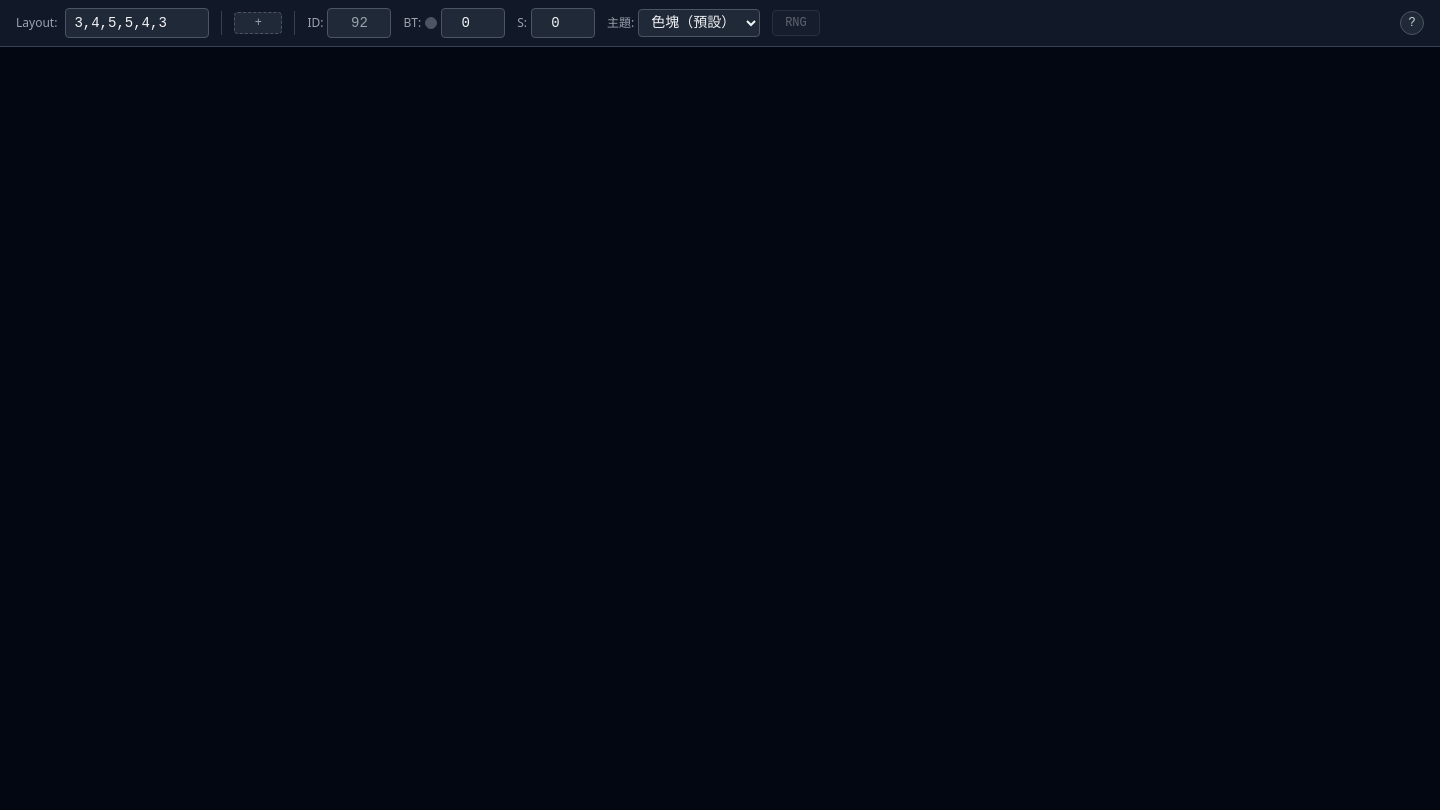
Test: Toolbar Help 按鈕 › 點擊 ? 按鈕開啟操作說明彈窗，再點 X 可關閉
Expected: the text "操作說明" is not shown
Click the button named "說明": (1412, 23) left=1400, top=11, right=1424, bottom=35
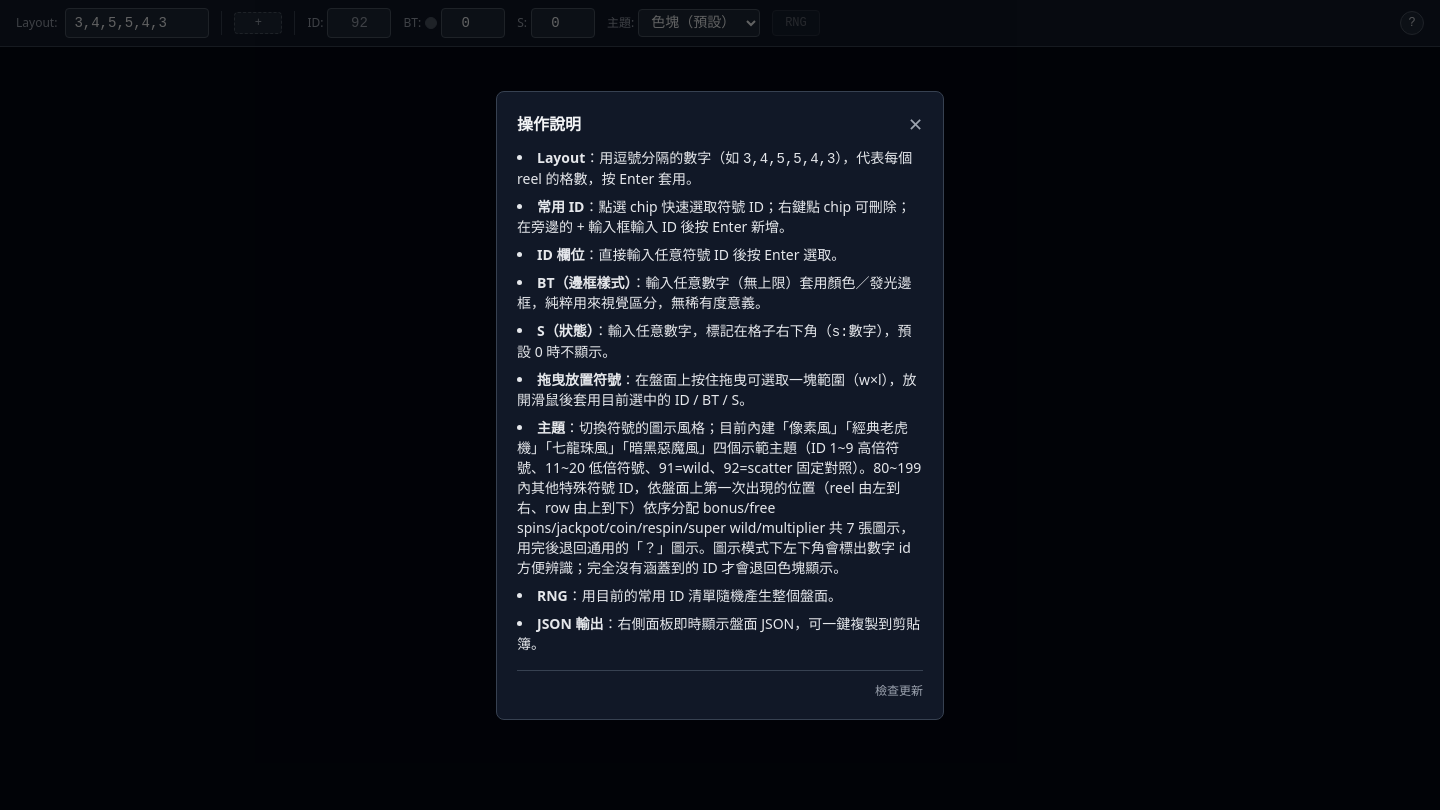
Expected: the heading "操作說明" is shown, left=517, top=112, right=581, bottom=136
Click the button named "關閉": (915, 124) left=908, top=114, right=923, bottom=132
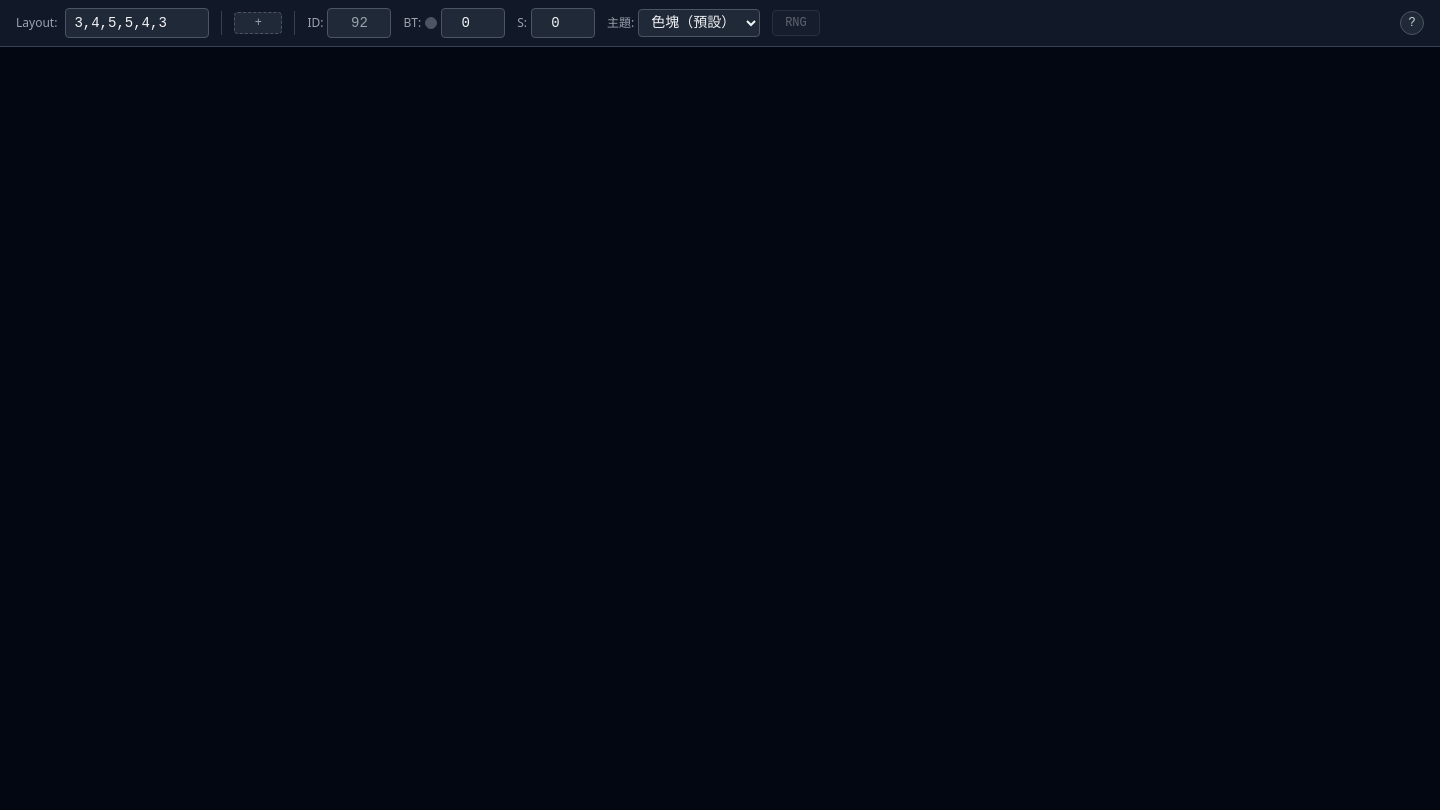
Expected: the heading "操作說明" is gone
